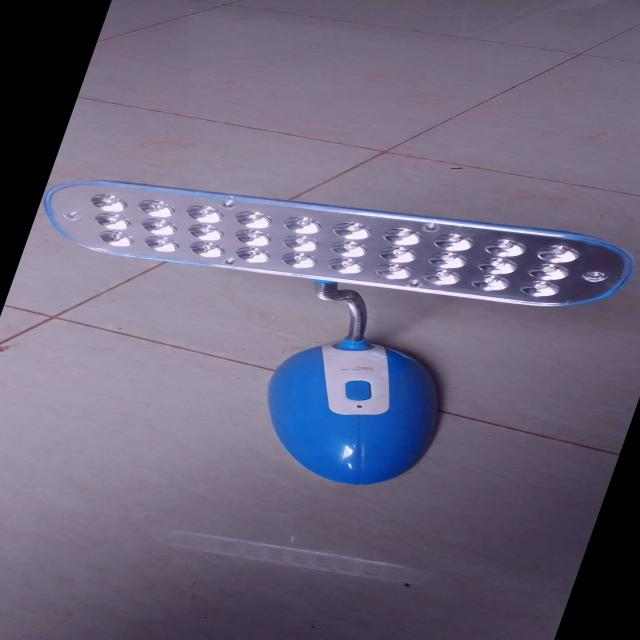Lantern: (0, 162, 640, 516)
